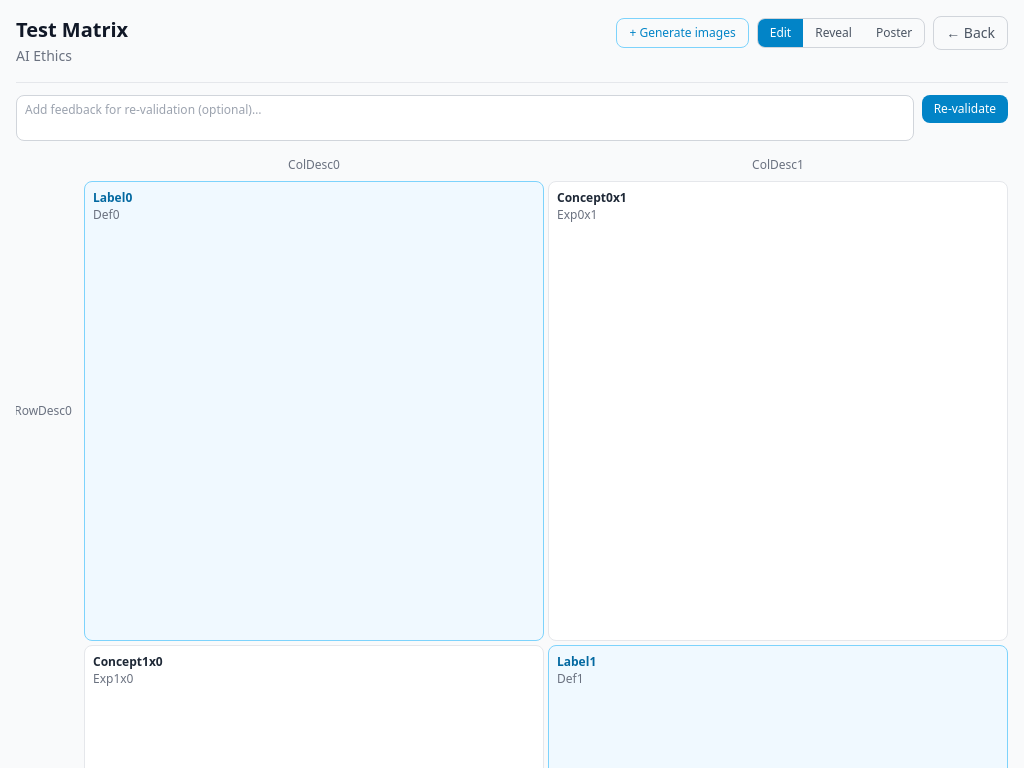
Test: MatrixView — Generate images button › shows error when generateMatrixImages rejects
The width and height of the screenshot is (1024, 768).
Click the button "+ Generate images" at (683, 33), box [616,18,749,48]
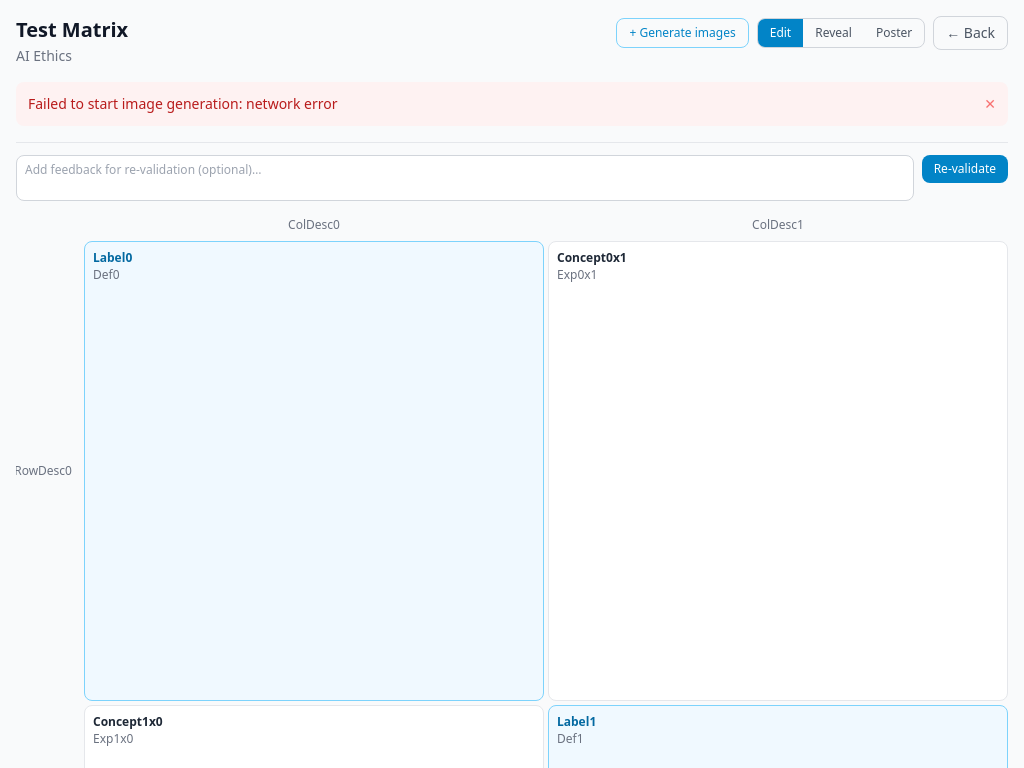
Now the text "Failed to start image generation: network error" is shown, box [28,94,338,113]
